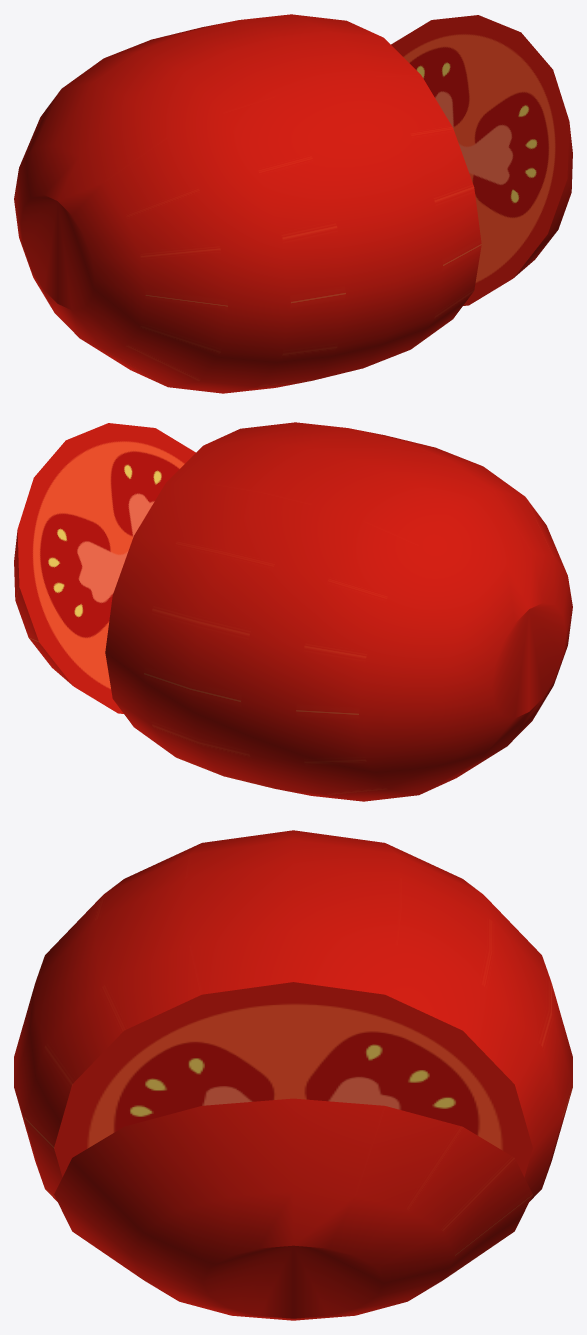
File: Tomato_01_S1.fbx
3 renders of one model, top to bottom at view 1: azimuth 30°, elevation 25°; view 2: azimuth 150°, elevation 25°; view 3: azimuth 270°, elevation 25°, orthographic. The views are drawn at different scales.
Visible parts, largest first — view 1: Tomato_01_S1; view 2: Tomato_01_S1; view 3: Tomato_01_S1.
Boxes of the visible parts, box(x1,y1,x2,y2) form: Tomato_01_S1: box(14, 14, 572, 393); Tomato_01_S1: box(14, 422, 572, 801); Tomato_01_S1: box(14, 830, 572, 1320).
Bounding box in the file's own units: 38.43 × 24.03 × 31.43.
